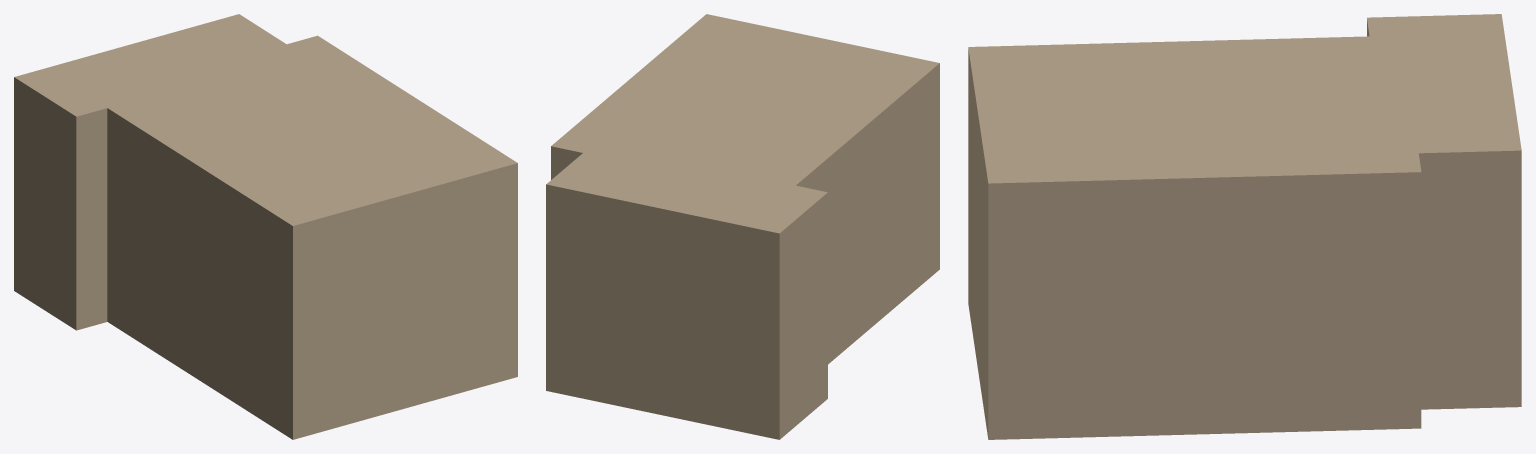
Rendered from bld_158045225.dae.
3 views of the same model, side by side, from view 1: azimuth 30°, elevation 25°; view 2: azimuth 150°, elevation 25°; view 3: azimuth 270°, elevation 25° (orthographic). The views are drawn at different scales.
Parts seen in each view (by area): view 1: bld_158045225; view 2: bld_158045225; view 3: bld_158045225.
Part boxes in pixels (x1,y1,x2,y2): bld_158045225: (14, 14, 517, 439); bld_158045225: (546, 14, 939, 439); bld_158045225: (968, 14, 1521, 439).
Size of the model in its own units: 11.34 by 15.65 by 8.
